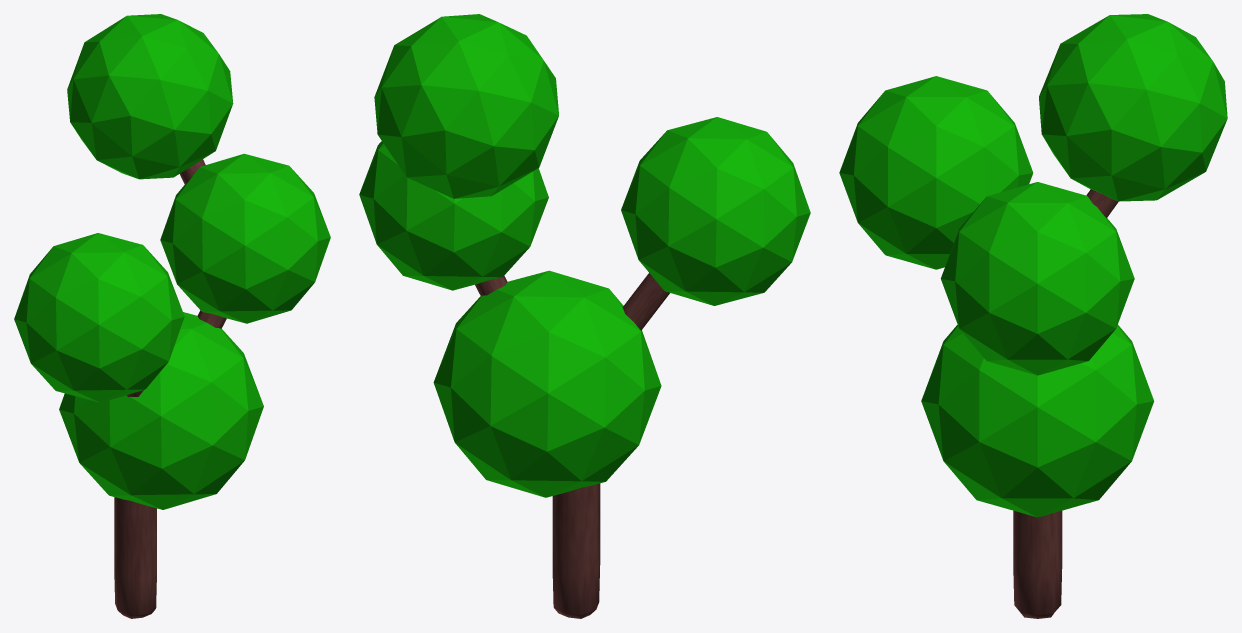
File: TreeC.fbx
The picture shows the model from 3 angles, left to right: view 1: azimuth 30°, elevation 25°; view 2: azimuth 150°, elevation 25°; view 3: azimuth 270°, elevation 25°; orthographic projection. The views are drawn at different scales.
Parts seen in each view (by area): view 1: TreeC; view 2: TreeC; view 3: TreeC.
Part boxes in pixels (left/top/right/bottom): TreeC: left=14, top=14, right=330, bottom=618; TreeC: left=359, top=14, right=810, bottom=618; TreeC: left=839, top=14, right=1227, bottom=618.
Size of the model in its own units: 3.03 by 2.67 by 4.69.
Materials: 2 (1 with a texture image).
